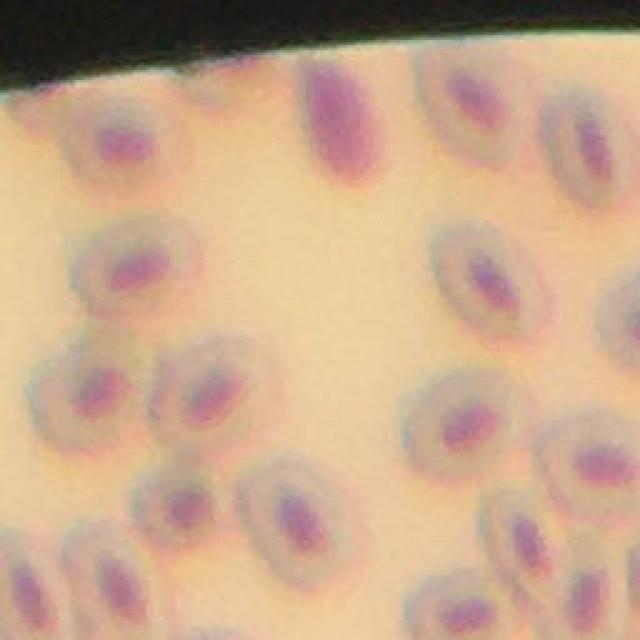RBC: (236, 450, 364, 596), (24, 330, 158, 454), (412, 40, 536, 173), (402, 366, 541, 482), (426, 218, 552, 344), (61, 515, 182, 640), (68, 211, 204, 319), (149, 337, 274, 453), (59, 95, 196, 199), (538, 74, 638, 212), (532, 410, 640, 524), (524, 530, 630, 640), (127, 466, 234, 552), (480, 480, 566, 586), (0, 526, 78, 640), (402, 563, 515, 640)
WBC: (296, 59, 389, 185)
